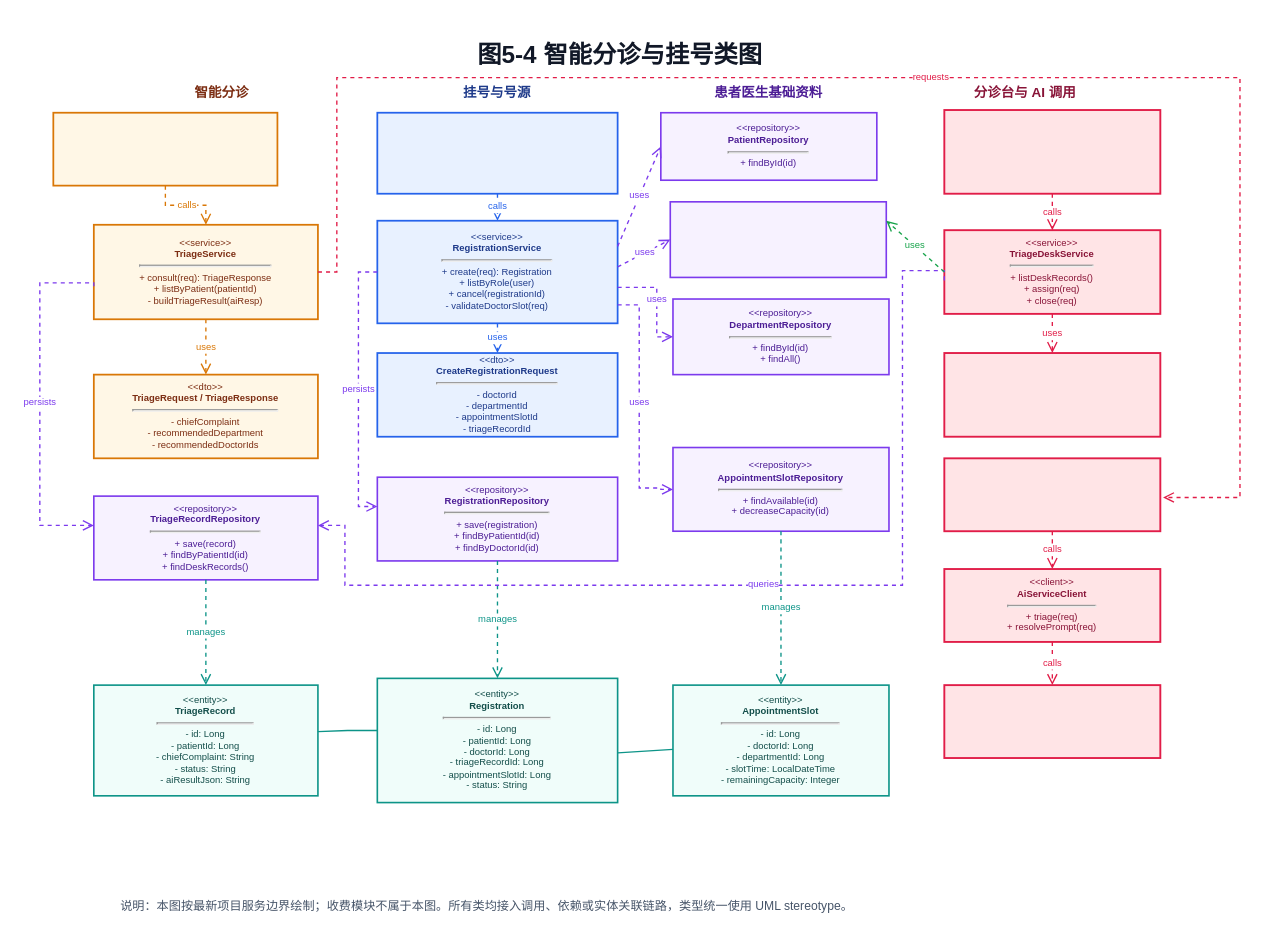
The diagram is 1274 pixels wide and 948 high, and some of its shapes have lost their labels. The box of each missing label's shape, as (x1, y1, x2, y2) in pixels:
<<client>> AiGatewayService + triage(req) + fallbackManual(): (943, 457, 1161, 531)
<<controller>> InternalAiController /internal/ai/triage: (943, 684, 1161, 758)
<<controller>> InternalTriageDeskController + list() + assign(req) + close(req): (943, 108, 1161, 194)
<<controller>> RegistrationController + create(req) + list() + cancel(req): (376, 111, 618, 194)
<<controller>> TriageController + consult(req) + list(): (52, 111, 278, 186)
<<dto>> InternalTriageAssign / CloseRequest - triageRecordId - doctorId - reason: (943, 351, 1161, 437)
<<repository>> DoctorRepository + findById(id) + findAvailableDoctors(): (669, 200, 886, 278)
